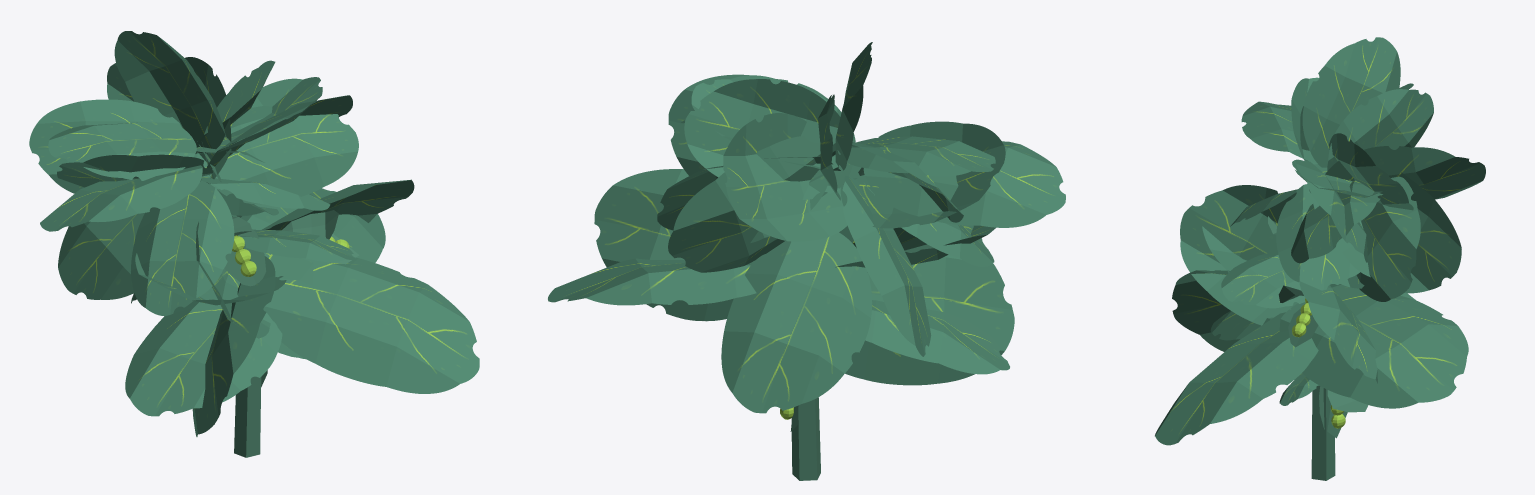
Rendered from soy_big.fbx.
3 renders of one model, left to right at view 1: azimuth 30°, elevation 25°; view 2: azimuth 150°, elevation 25°; view 3: azimuth 270°, elevation 25°, orthographic. The views are drawn at different scales.
Visible parts, largest first — view 1: Cylinder.014; view 2: Cylinder.014; view 3: Cylinder.014.
Part boxes in pixels (x1,y1,x2,y2): Cylinder.014: (29,31,479,457); Cylinder.014: (548,42,1065,480); Cylinder.014: (1155,37,1485,480).
Bounding box in the file's own units: 255 × 250 × 214.
